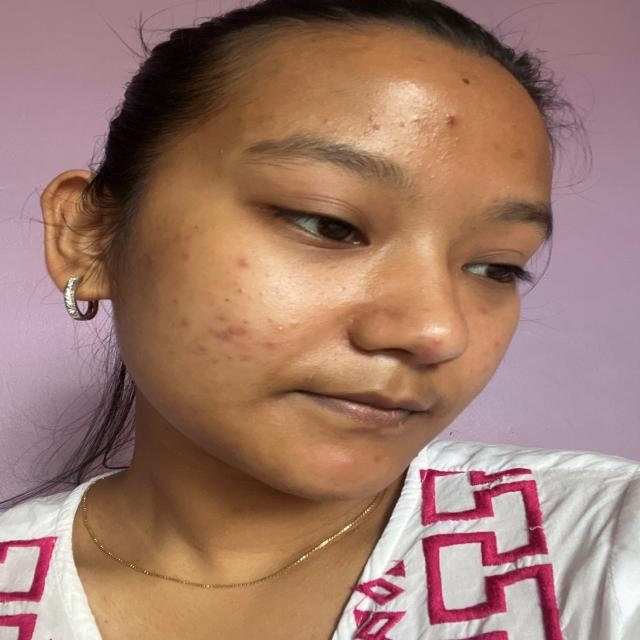Acne: (205, 323, 248, 343), (264, 316, 303, 332), (327, 452, 356, 472), (442, 112, 458, 129), (511, 146, 527, 162), (174, 317, 193, 329), (237, 256, 250, 269), (430, 336, 444, 348), (181, 250, 193, 264), (263, 338, 275, 351), (421, 347, 433, 359), (372, 454, 386, 464), (490, 338, 502, 349), (475, 304, 486, 314), (145, 255, 157, 263)
Blackheads: (373, 138, 457, 180), (316, 113, 440, 136)
